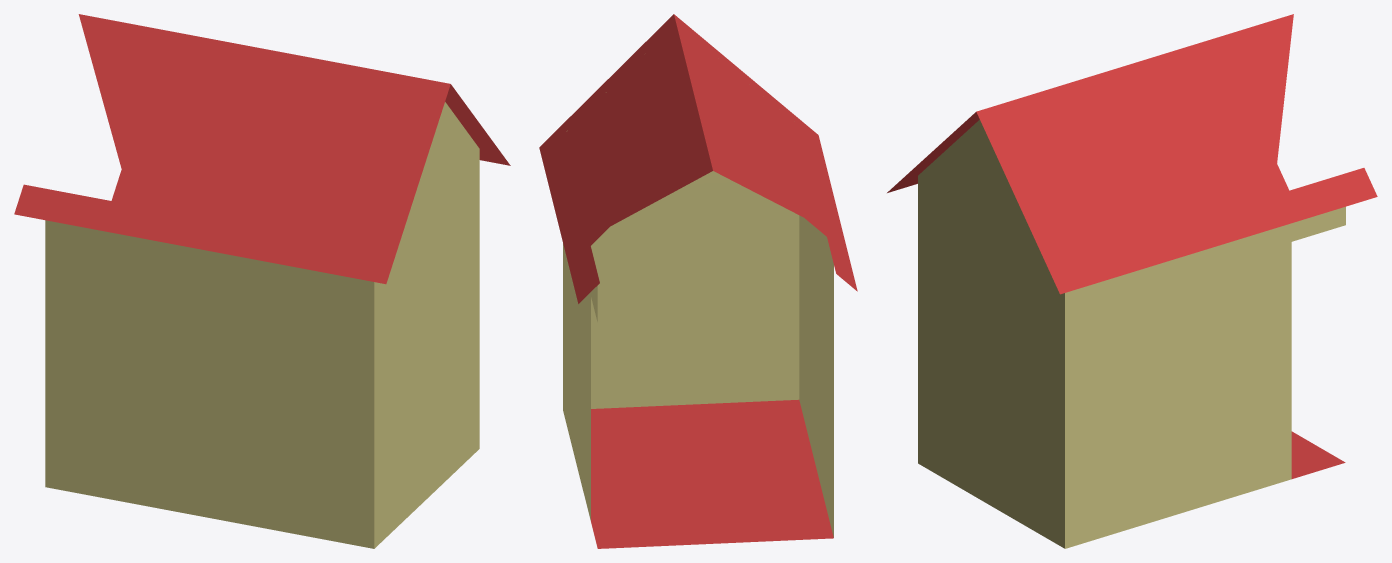
The picture shows the model from 3 angles, left to right: view 1: azimuth 30°, elevation 25°; view 2: azimuth 150°, elevation 25°; view 3: azimuth 270°, elevation 25°; orthographic projection. The views are drawn at different scales.
Bounding box in the file's own units: 15.46 × 16.16 × 14.59.
